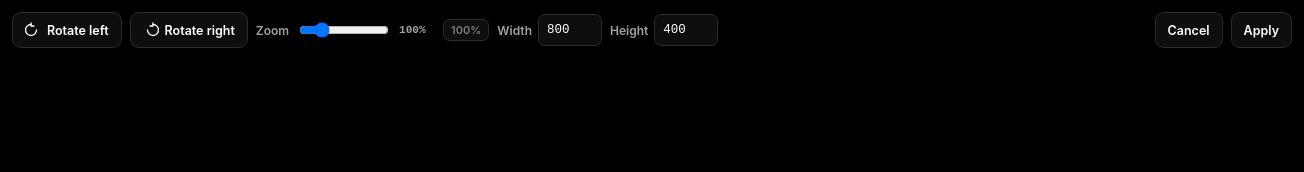
EditToolbar › the 100% shortcut button resets zoom and disables itself at 100% (R-C7)
Expected: the button with test id "edit-zoom-reset" is disabled, [443,19,489,41]
Set the slider with test id "edit-zoom-slider" to "2". click: (342, 30)
box: [299,22,389,38]
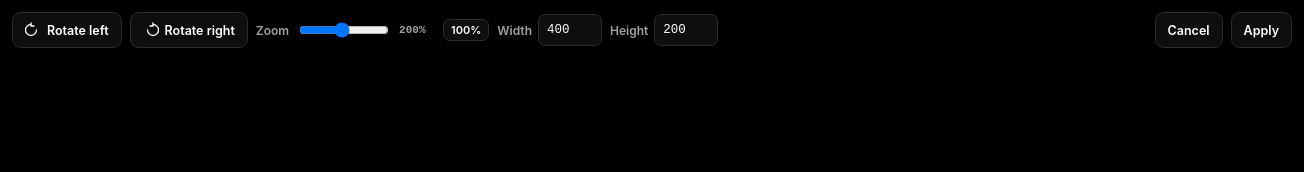
Expected: the button with test id "edit-zoom-reset" is enabled
Click the button with test id "edit-zoom-reset". click: (466, 30)
box: [443,19,489,41]
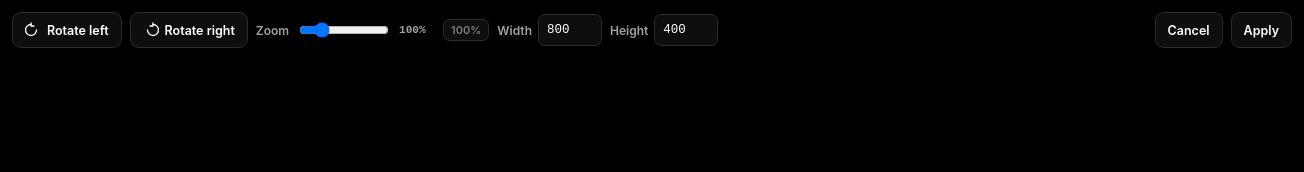
Expected: the text with test id "edit-zoom-readout" reads "100%", [399,24,426,36]
Expected: the button with test id "edit-zoom-reset" is disabled, [443,19,489,41]
